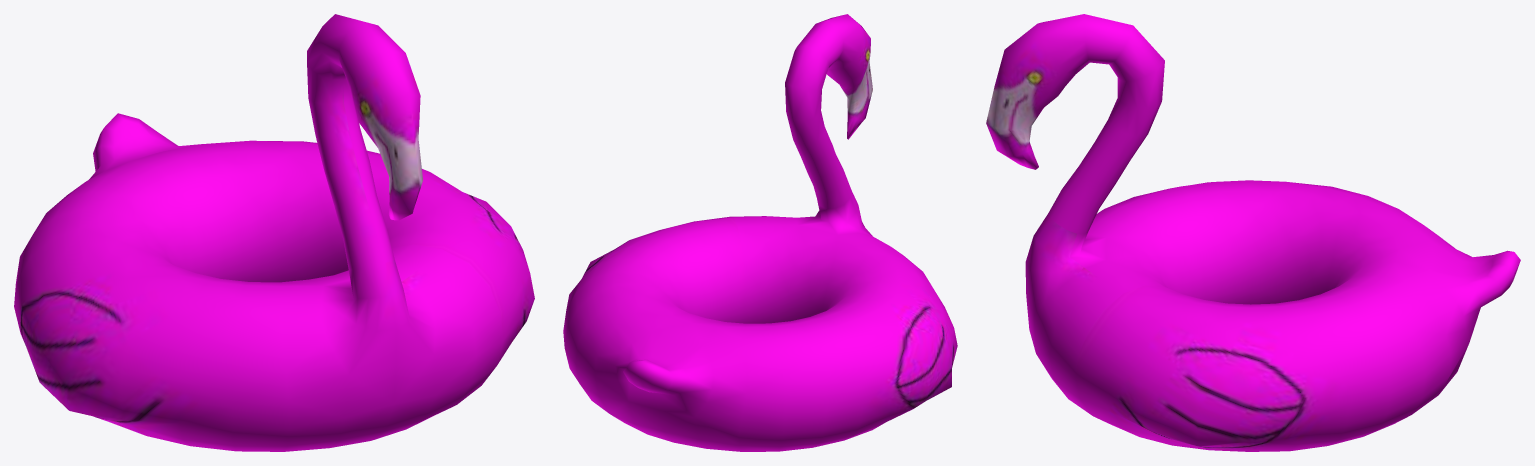
Rendered from flamingo_float.fbx.
3 renders of one model, left to right at view 1: azimuth 30°, elevation 25°; view 2: azimuth 150°, elevation 25°; view 3: azimuth 270°, elevation 25°, orthographic. The views are drawn at different scales.
Parts seen in each view (by area): view 1: Flamingo004; view 2: Flamingo004; view 3: Flamingo004.
Part boxes in pixels (bbox=[...]): Flamingo004: bbox=[14, 14, 534, 451]; Flamingo004: bbox=[563, 14, 957, 451]; Flamingo004: bbox=[986, 14, 1520, 451].
Size of the model in its own units: 23.39 by 20.37 by 26.71.
Materials: 1 (1 with a texture image).
